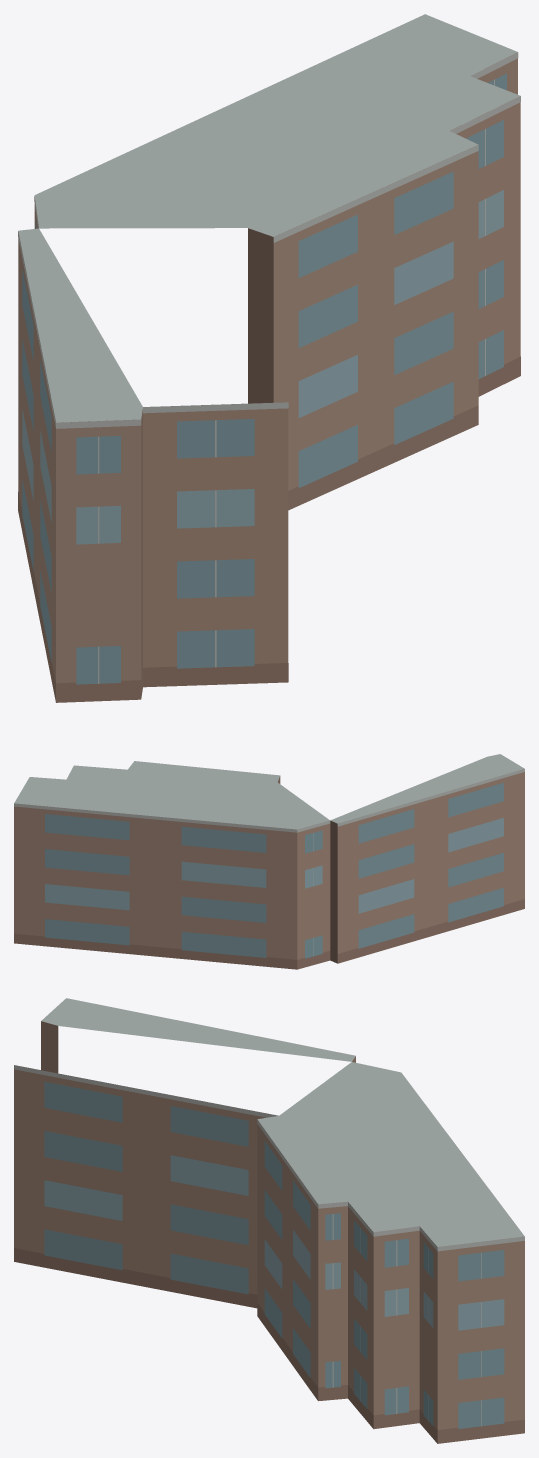
File: survey-upis-32754871.glb
3 views of the same model, one above another, from view 1: azimuth 30°, elevation 25°; view 2: azimuth 150°, elevation 25°; view 3: azimuth 270°, elevation 25° (orthographic). The views are drawn at different scales.
Parts seen in each view (by area): view 1: survey-upis-32754871.tmp; view 2: survey-upis-32754871.tmp; view 3: survey-upis-32754871.tmp.
Part boxes in pixels (x1,y1,x2,y2): survey-upis-32754871.tmp: [18, 14, 520, 702]; survey-upis-32754871.tmp: [14, 754, 524, 969]; survey-upis-32754871.tmp: [14, 998, 524, 1443].
Bounding box in the file's own units: 29.86 × 11 × 25.88.
